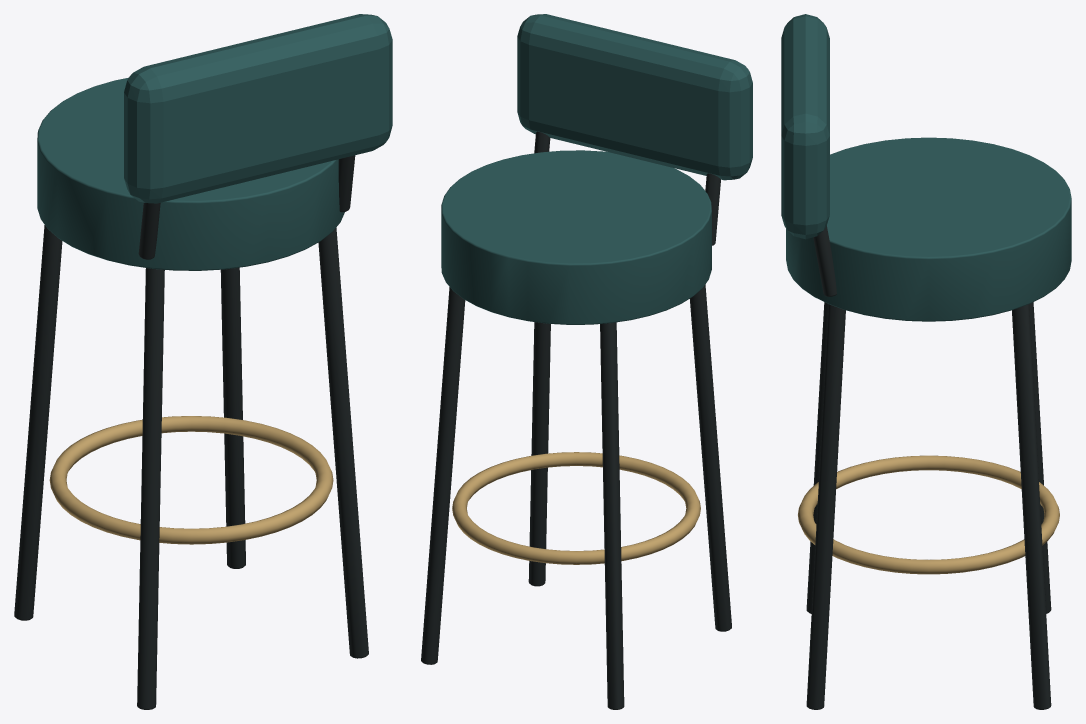
File: modern-bar-stool.glb
The picture shows the model from 3 angles, left to right: view 1: azimuth 30°, elevation 25°; view 2: azimuth 150°, elevation 25°; view 3: azimuth 270°, elevation 25°; orthographic projection. The views are drawn at different scales.
Visible parts, largest first — view 1: modern-bar-stool - Modern Bar petrol leather booth upholster, modern-bar-stool - Modern Bar powder coated charcoal steel r, modern-bar-stool - Modern Bar brushed champagne brass runtim; view 2: modern-bar-stool - Modern Bar petrol leather booth upholster, modern-bar-stool - Modern Bar powder coated charcoal steel r, modern-bar-stool - Modern Bar brushed champagne brass runtim; view 3: modern-bar-stool - Modern Bar petrol leather booth upholster, modern-bar-stool - Modern Bar powder coated charcoal steel r, modern-bar-stool - Modern Bar brushed champagne brass runtim.
Part boxes in pixels (box(x1,y1,x2,y2)): modern-bar-stool - Modern Bar petrol leather booth upholster: box(37, 14, 392, 270); modern-bar-stool - Modern Bar powder coated charcoal steel r: box(14, 155, 368, 709); modern-bar-stool - Modern Bar brushed champagne brass runtim: box(49, 416, 333, 544); modern-bar-stool - Modern Bar petrol leather booth upholster: box(441, 14, 752, 324); modern-bar-stool - Modern Bar powder coated charcoal steel r: box(421, 131, 731, 709); modern-bar-stool - Modern Bar brushed champagne brass runtim: box(452, 452, 700, 564); modern-bar-stool - Modern Bar petrol leather booth upholster: box(781, 14, 1071, 321); modern-bar-stool - Modern Bar powder coated charcoal steel r: box(806, 226, 1051, 709); modern-bar-stool - Modern Bar brushed champagne brass runtim: box(798, 455, 1059, 574).
Size of the model in its own units: 0.44 by 1.01 by 0.4475.
